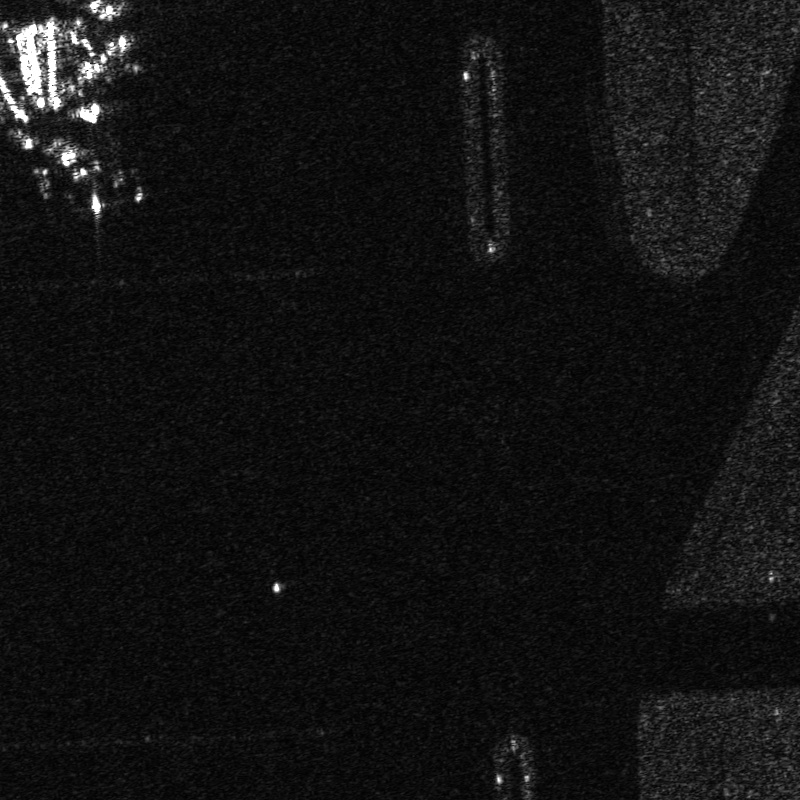Boeing737: (23, 129, 137, 229)
